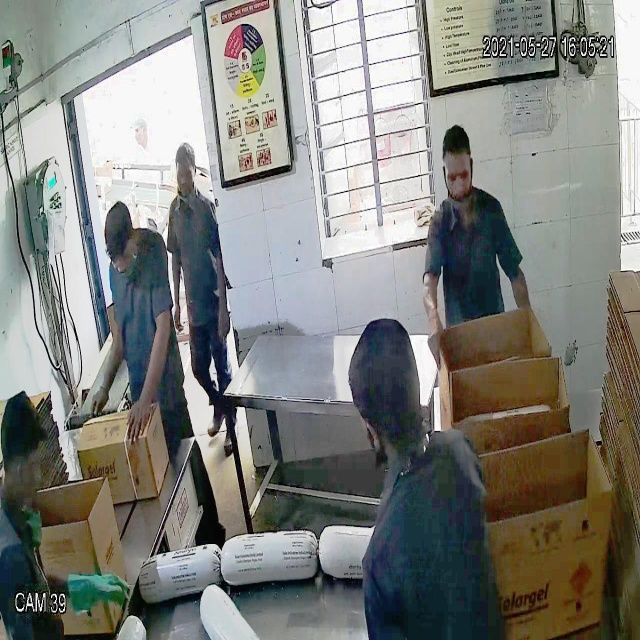Sin_gafas: (440, 159, 474, 192)
